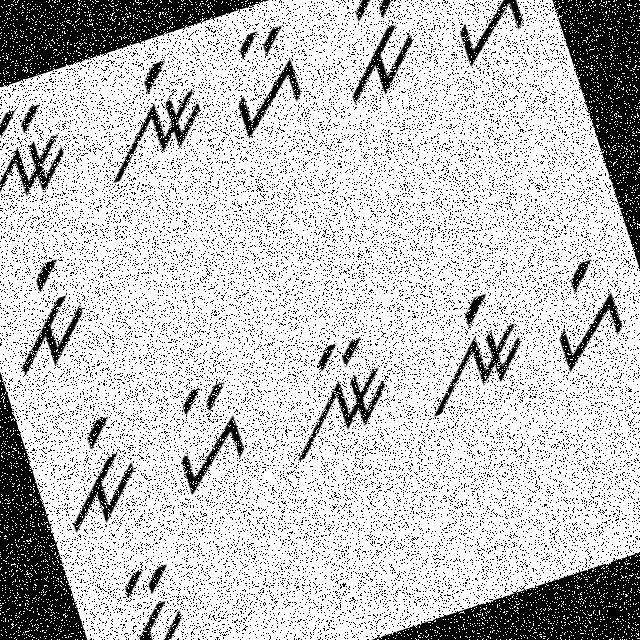han: (150, 369, 268, 503), (209, 10, 323, 146)
hang: (527, 245, 639, 380), (423, 0, 544, 77)
mban: (316, 0, 440, 111), (83, 549, 209, 639)
mbang: (36, 404, 154, 542), (0, 246, 112, 387)
ndan: (261, 321, 410, 470), (0, 90, 90, 240)
ndang: (393, 280, 542, 428), (73, 47, 222, 195)
